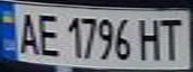1: (60, 12, 84, 59)
6: (112, 16, 136, 62)
7: (78, 15, 96, 60)
9: (97, 15, 118, 61)
A: (12, 8, 42, 56)
E: (33, 10, 60, 57)
H: (136, 15, 166, 62)
T: (157, 15, 187, 61)
